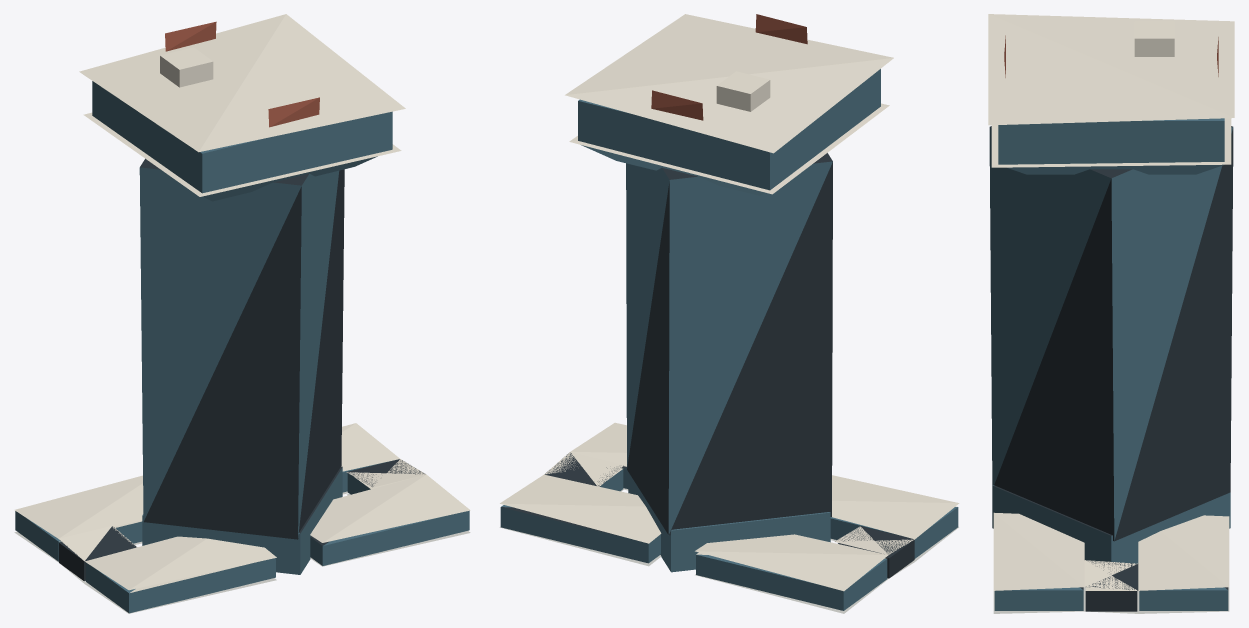
File: adam-tower.lod2.glb
3 views of the same model, side by side, from view 1: azimuth 30°, elevation 25°; view 2: azimuth 150°, elevation 25°; view 3: azimuth 270°, elevation 25° (orthographic). The views are drawn at different scales.
Visible parts, largest first — view 1: lod2; view 2: lod2; view 3: lod2.
Part boxes in pixels (box(x1,y1,x2,y2)): lod2: box(14, 14, 470, 613); lod2: box(499, 14, 959, 613); lod2: box(988, 14, 1234, 613).
Bounding box in the file's own units: 60.51 × 79 × 36.7.
